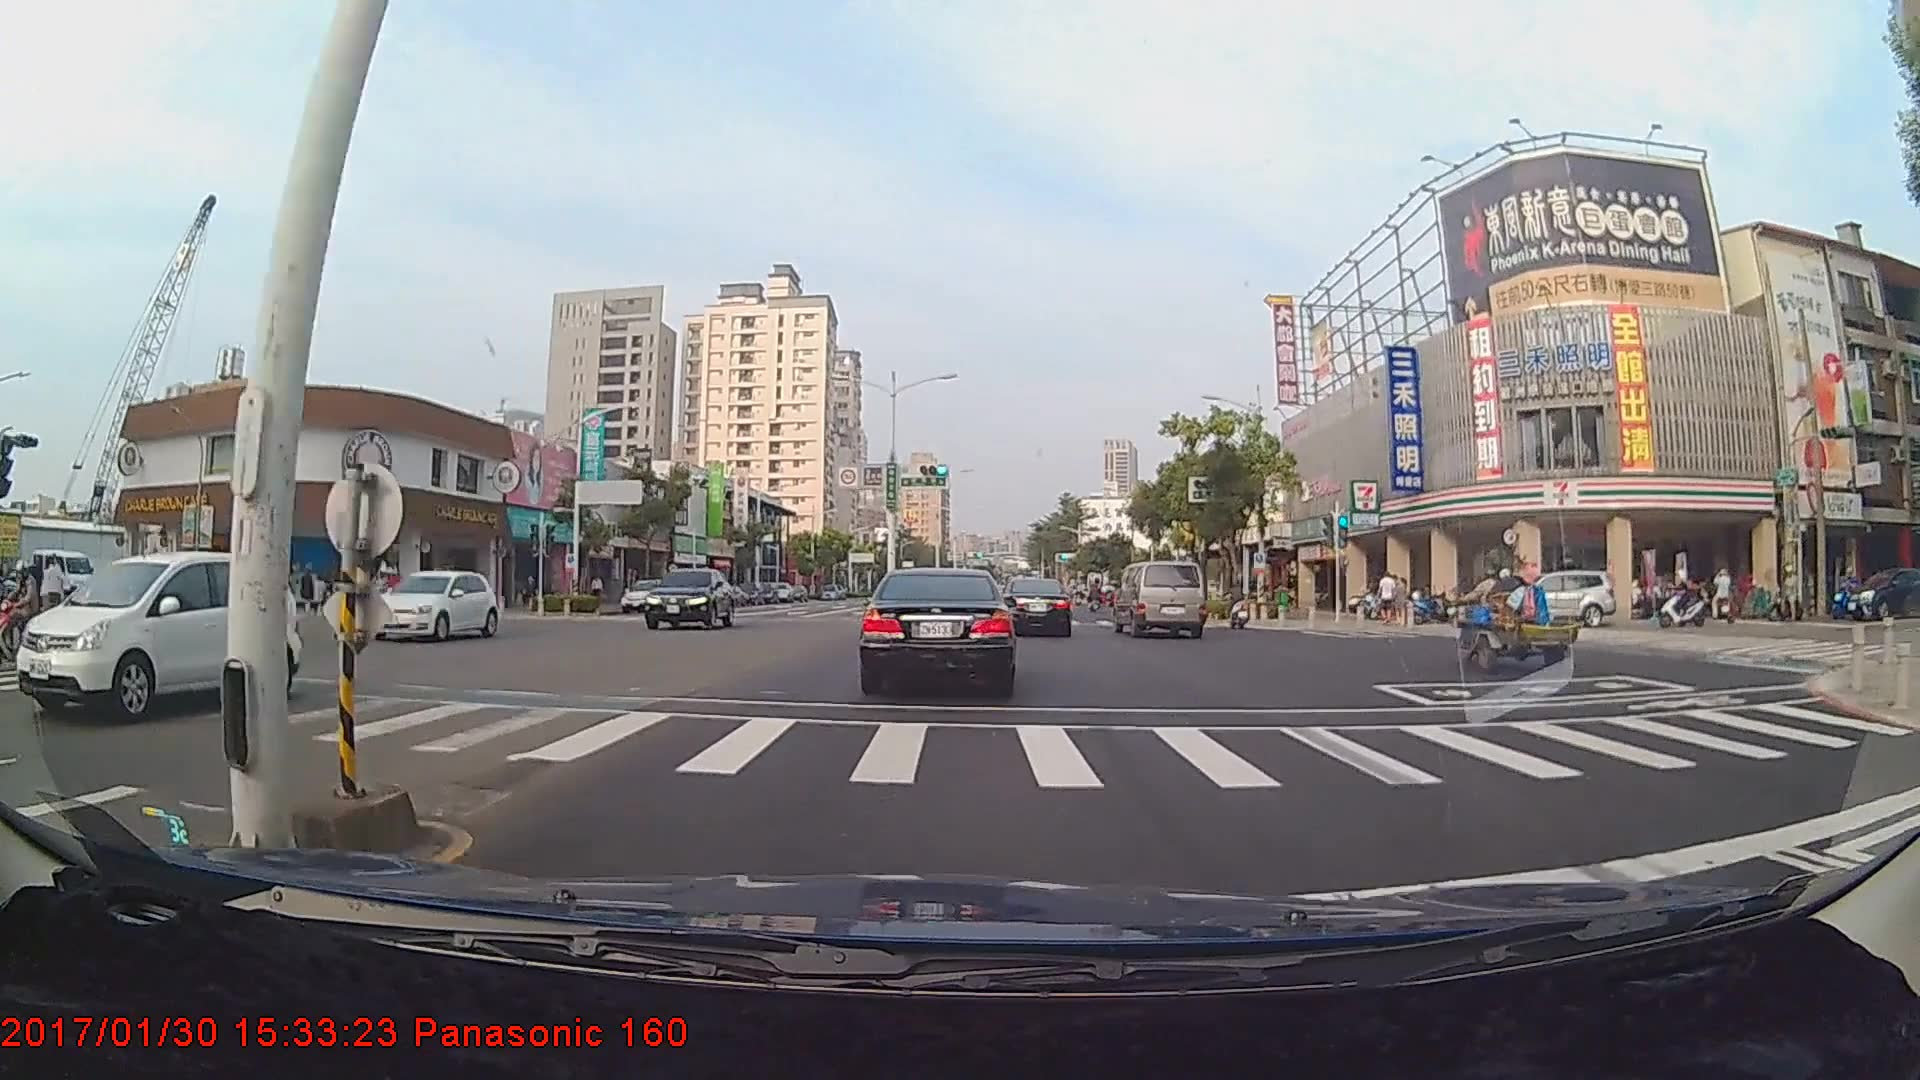pedestrian: (43, 553, 69, 629), (1375, 571, 1396, 626)
rider: (1, 552, 60, 668), (1653, 567, 1719, 635), (1216, 581, 1255, 635)
vehicle: (29, 550, 297, 713), (859, 561, 1017, 697), (361, 570, 495, 646), (1461, 573, 1611, 632), (1114, 561, 1205, 639), (641, 567, 735, 631), (1001, 577, 1072, 636), (619, 577, 668, 612)
